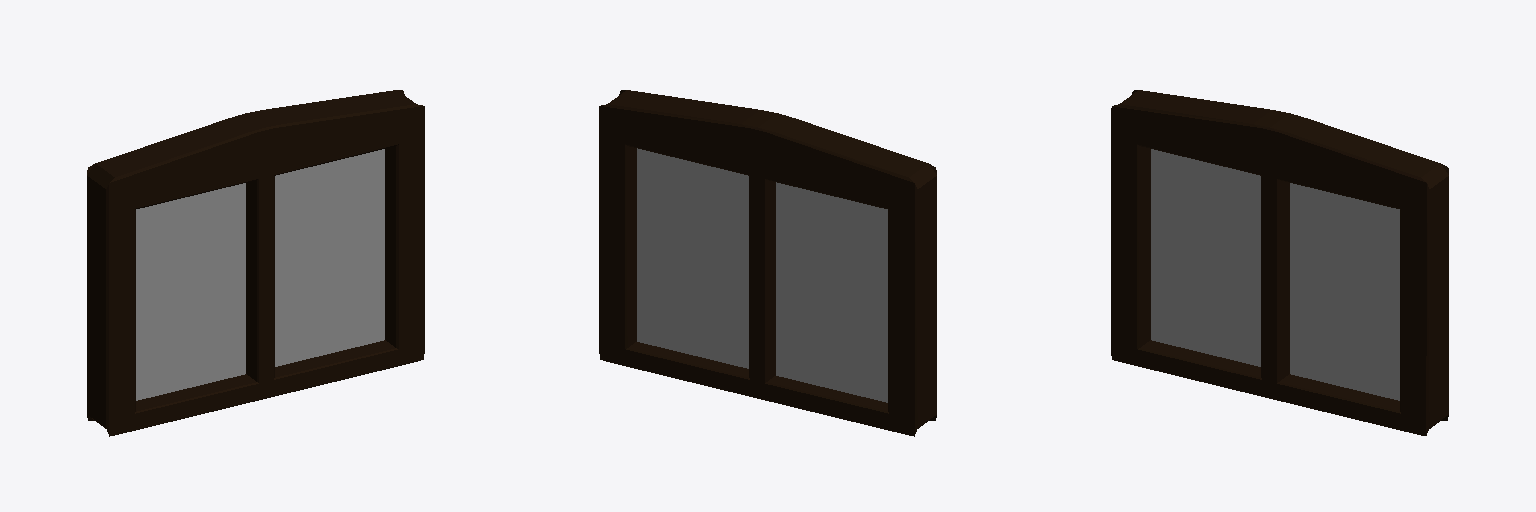
The model's file is window-150_Kalyoncu-Seppannen.obj.
3 renders of one model, left to right at view 1: azimuth 30°, elevation 25°; view 2: azimuth 150°, elevation 25°; view 3: azimuth 330°, elevation 25°, orthographic.
Visible parts, largest first — view 1: Window_1_Plane.005; view 2: Window_1_Plane.005; view 3: Window_1_Plane.005.
Boxes of the visible parts, <box> form: Window_1_Plane.005: <box>87,90,424,436</box>; Window_1_Plane.005: <box>599,90,936,436</box>; Window_1_Plane.005: <box>1111,90,1448,435</box>.
Size of the model in its own units: 1.83 by 1.49 by 0.2123.